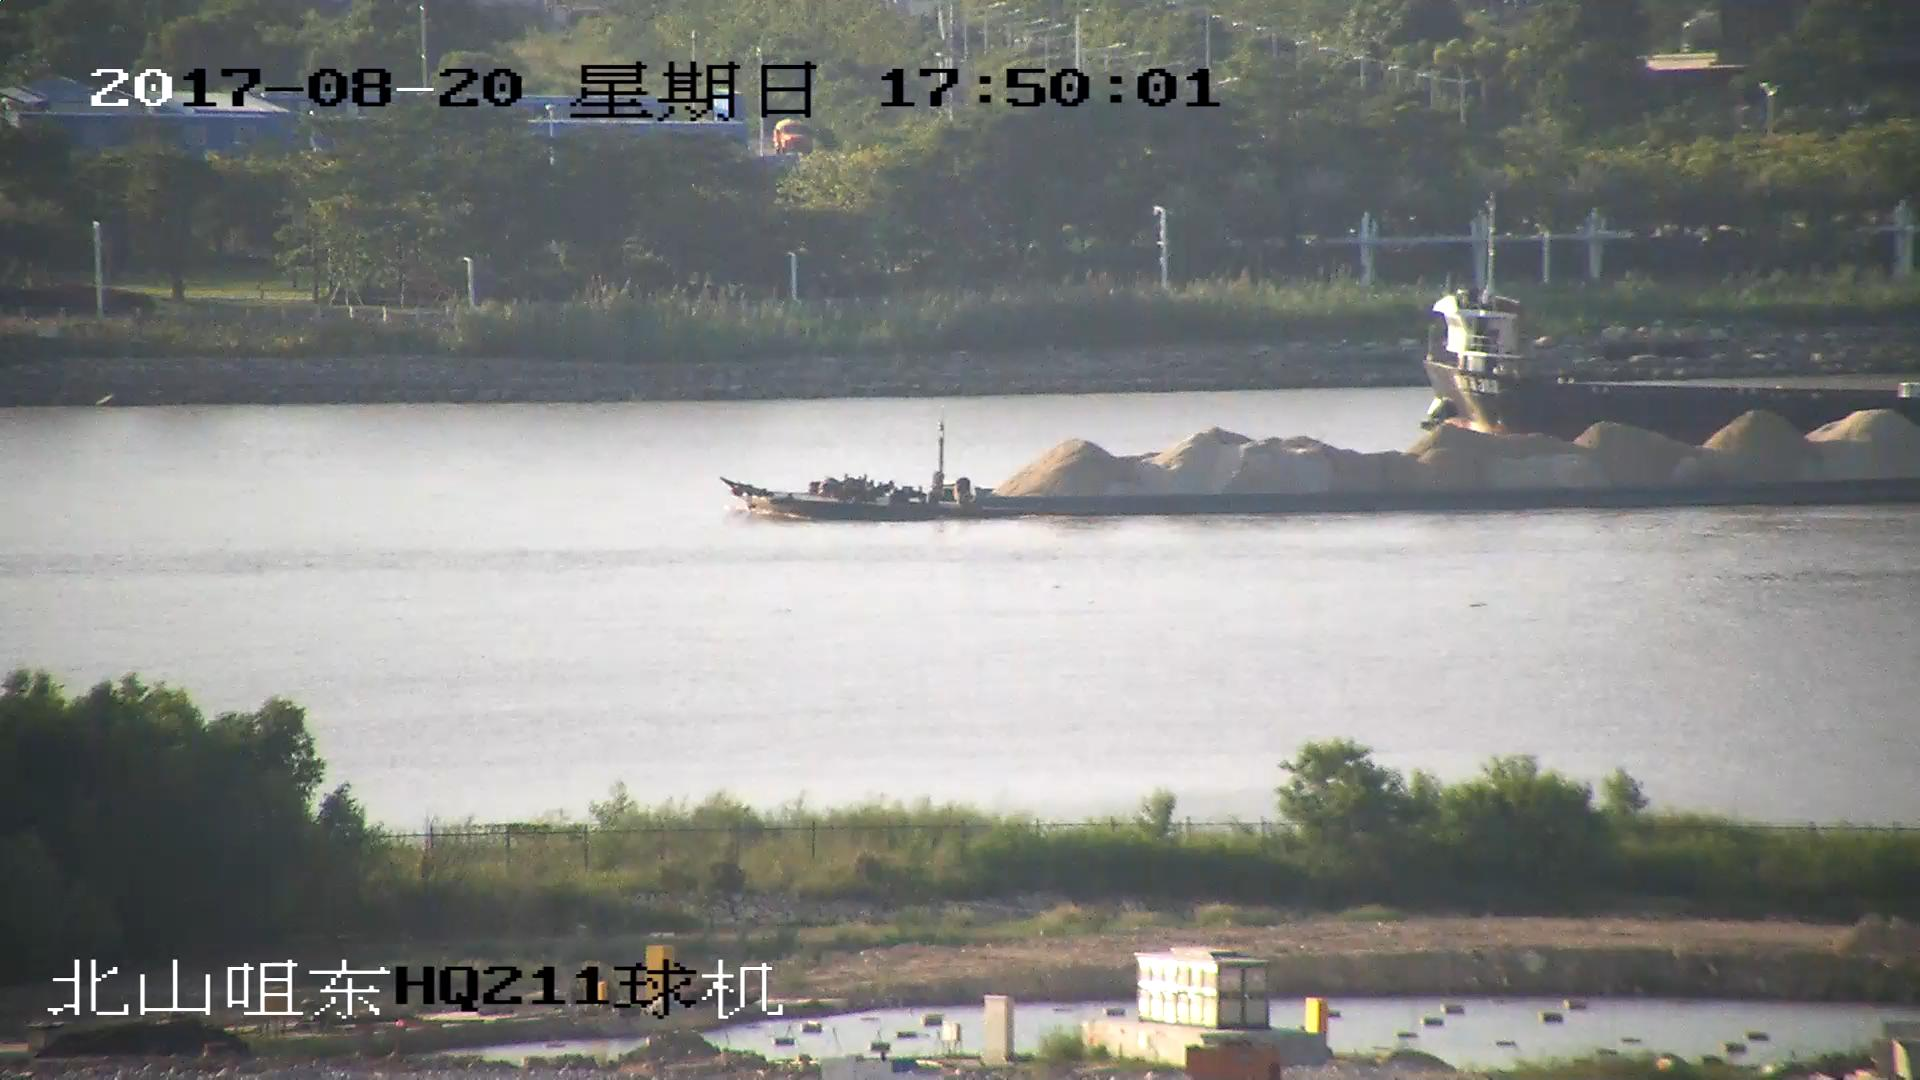general cargo ship: (1427, 197, 1920, 446)
ore carrier: (723, 405, 1920, 522)
